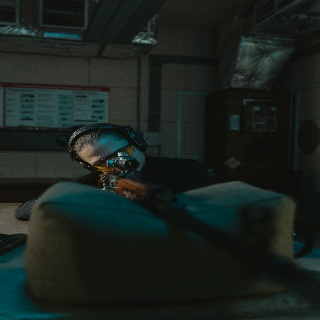rifle: (97, 150, 320, 309)
